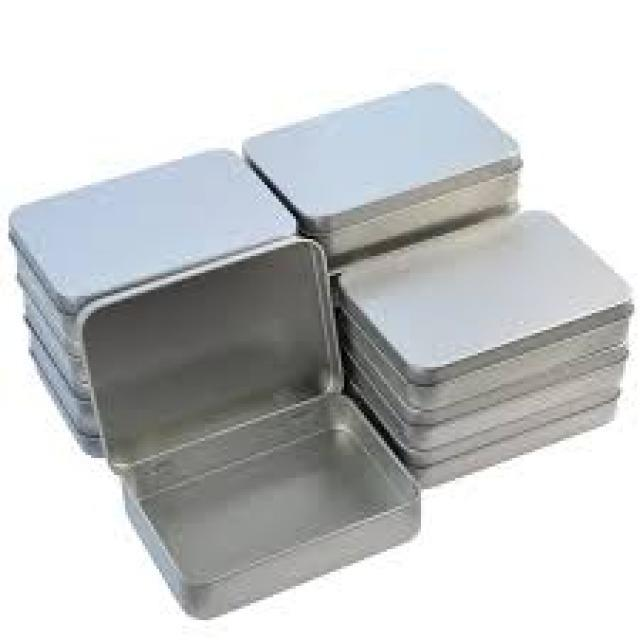recyclable: (72, 240, 420, 621), (327, 210, 636, 411), (8, 148, 300, 340), (243, 81, 531, 262)
